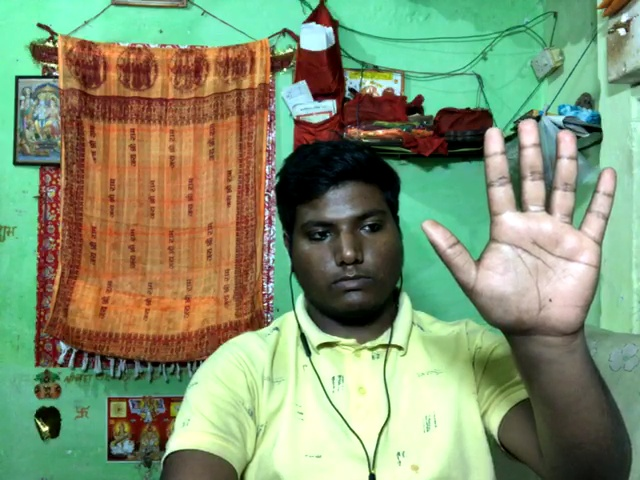Hello: (417, 110, 623, 343)
